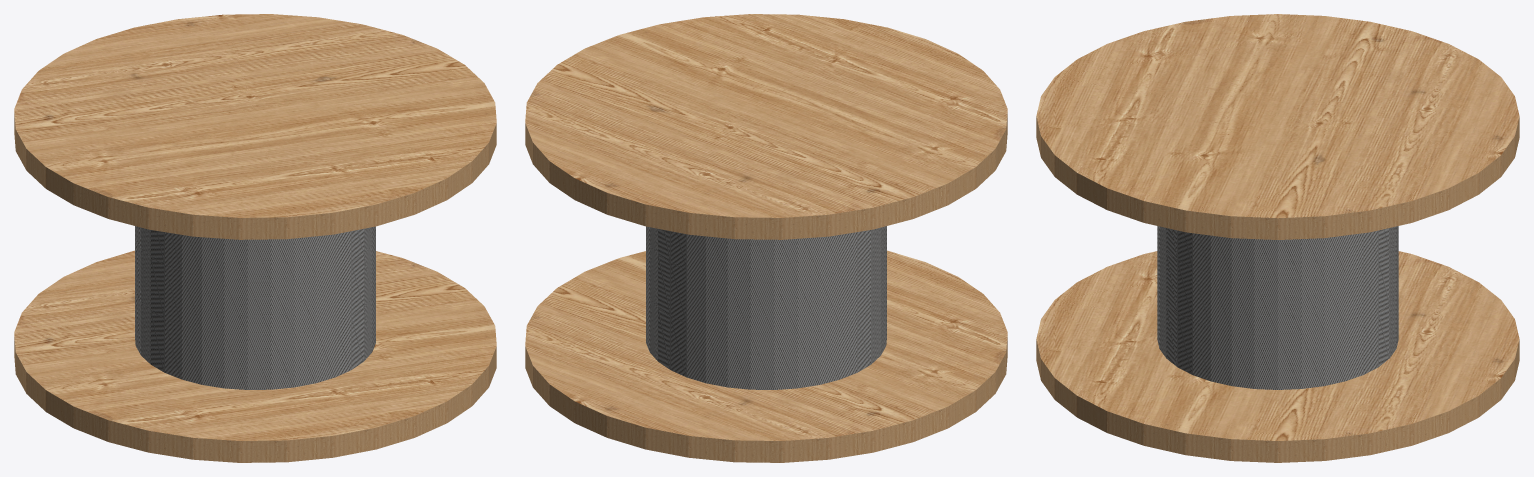
The picture shows the model from 3 angles, left to right: view 1: azimuth 30°, elevation 25°; view 2: azimuth 150°, elevation 25°; view 3: azimuth 270°, elevation 25°; orthographic projection.
Visible parts, largest first — view 1: Cylinder.001, Cylinder.002, Cylinder; view 2: Cylinder.001, Cylinder.002, Cylinder; view 3: Cylinder.001, Cylinder.002, Cylinder.
Boxes of the visible parts, x1,y1,x2,y2 form: Cylinder.001: [14, 14, 496, 239]; Cylinder.002: [14, 250, 496, 462]; Cylinder: [135, 226, 375, 389]; Cylinder.001: [525, 14, 1007, 239]; Cylinder.002: [525, 250, 1007, 462]; Cylinder: [646, 226, 886, 389]; Cylinder.001: [1036, 14, 1519, 239]; Cylinder.002: [1036, 251, 1519, 462]; Cylinder: [1157, 226, 1398, 389].
Size of the model in its own units: 2 by 1.12 by 2.
2 materials, 2 textured.
